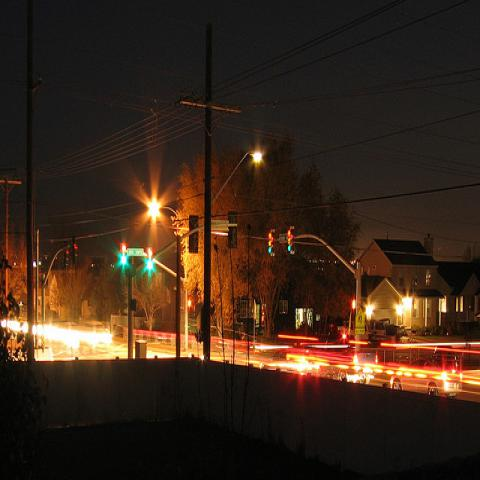bus: (375, 342, 464, 399)
